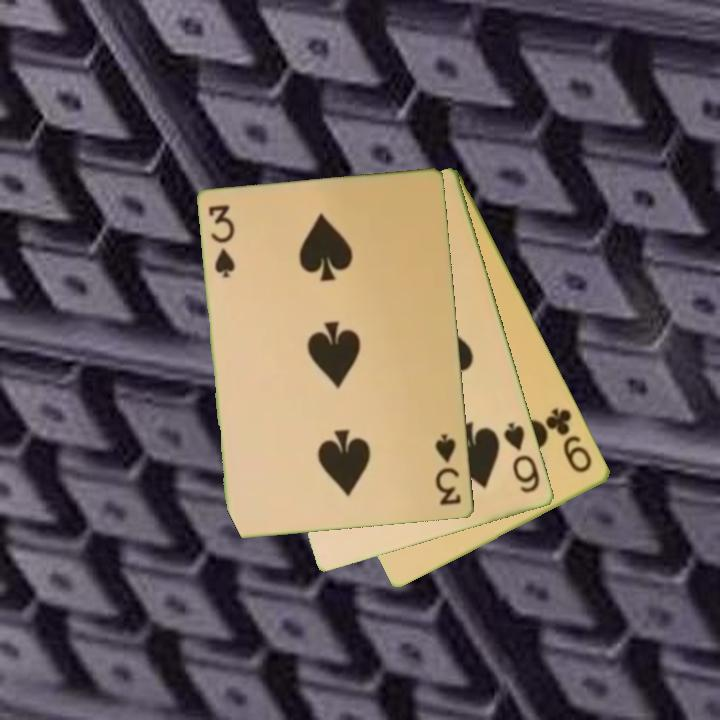3s: (205, 201, 239, 281), (432, 431, 465, 509)
6s: (500, 419, 543, 497)
9c: (543, 404, 596, 476)
